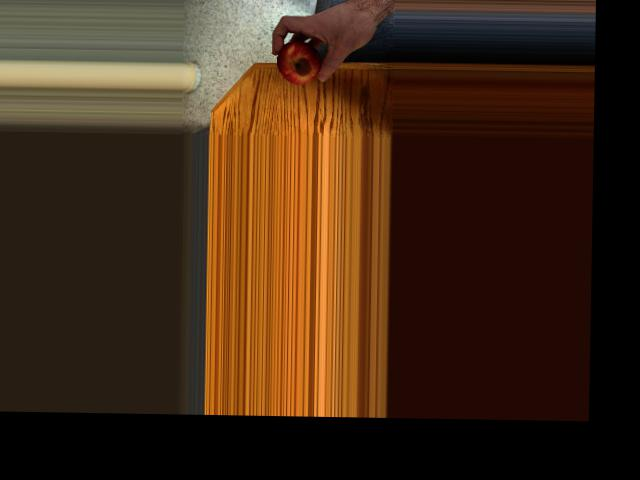apple: (275, 43, 323, 84)
